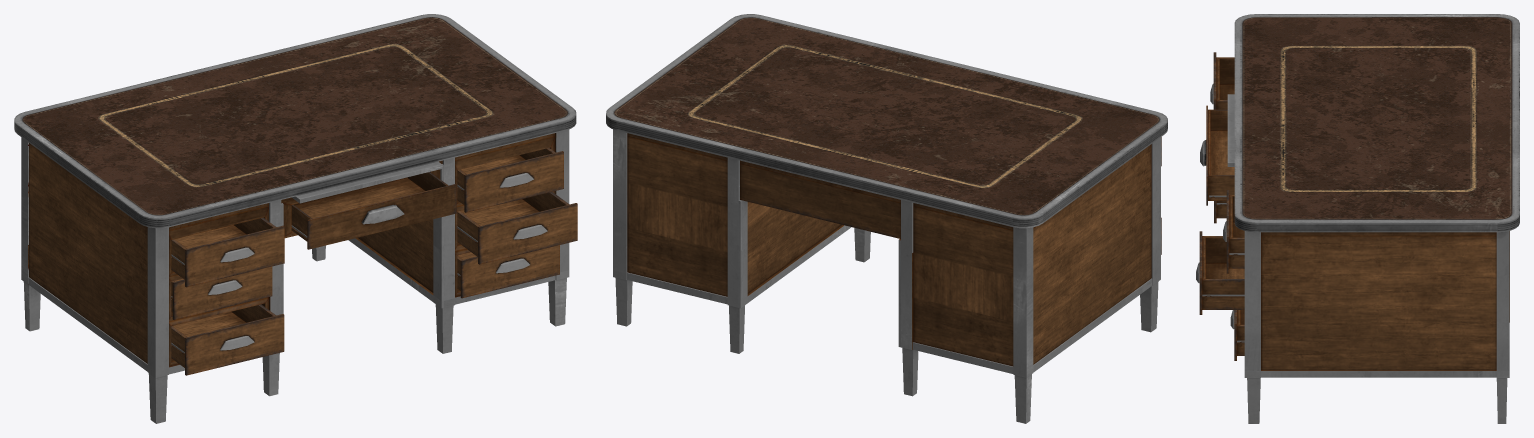
Rendered from desk.glb.
3 views of the same model, side by side, from view 1: azimuth 30°, elevation 25°; view 2: azimuth 150°, elevation 25°; view 3: azimuth 270°, elevation 25° (orthographic).
Size of the model in its own units: 1.9 by 0.8778 by 1.24.
Materials: 1 (1 with a texture image).
